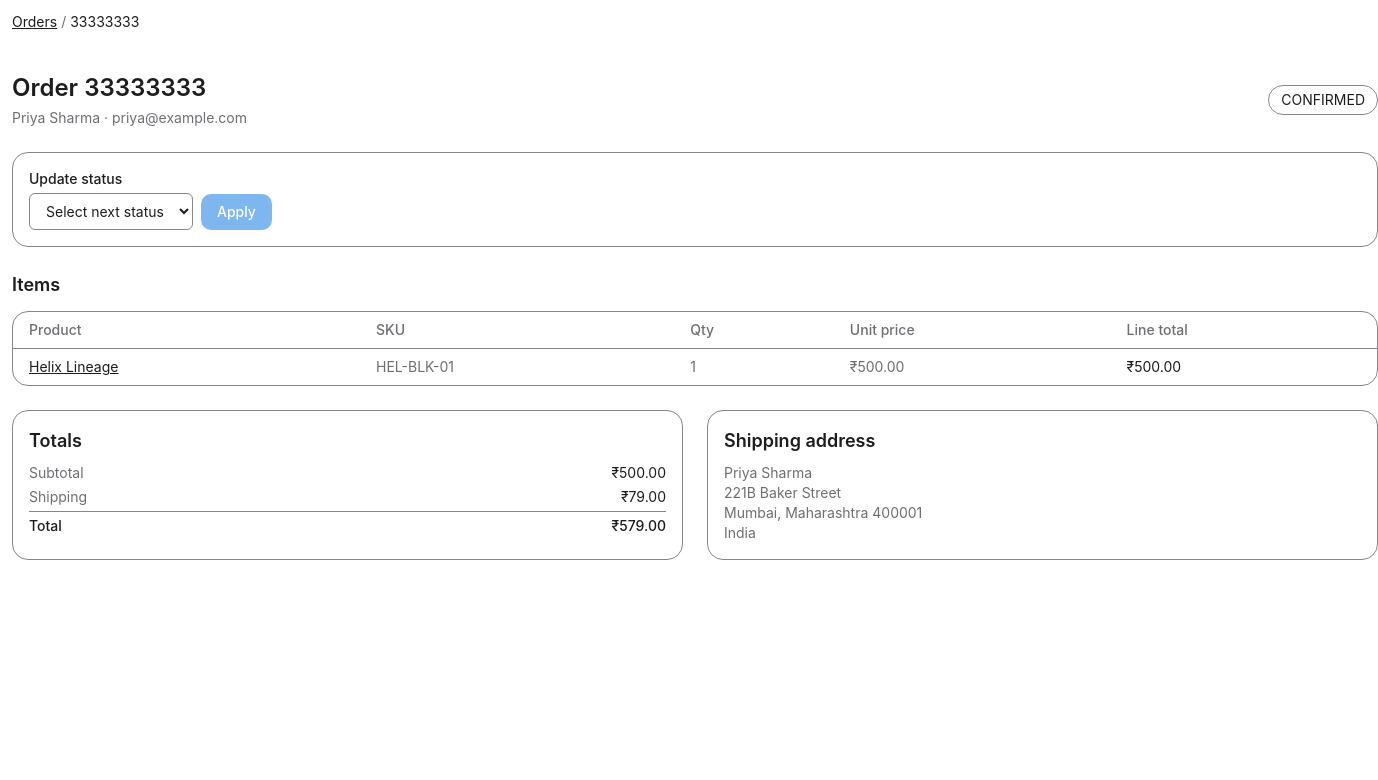
it: AdminOrderDetailPage › applies a status transition
Expected: the link "Helix Lineage" is shown, [29,358,118,375]
Select "PROCESSING" in the dropdown labelled "Update status" at (111, 212), box [29,193,193,230]
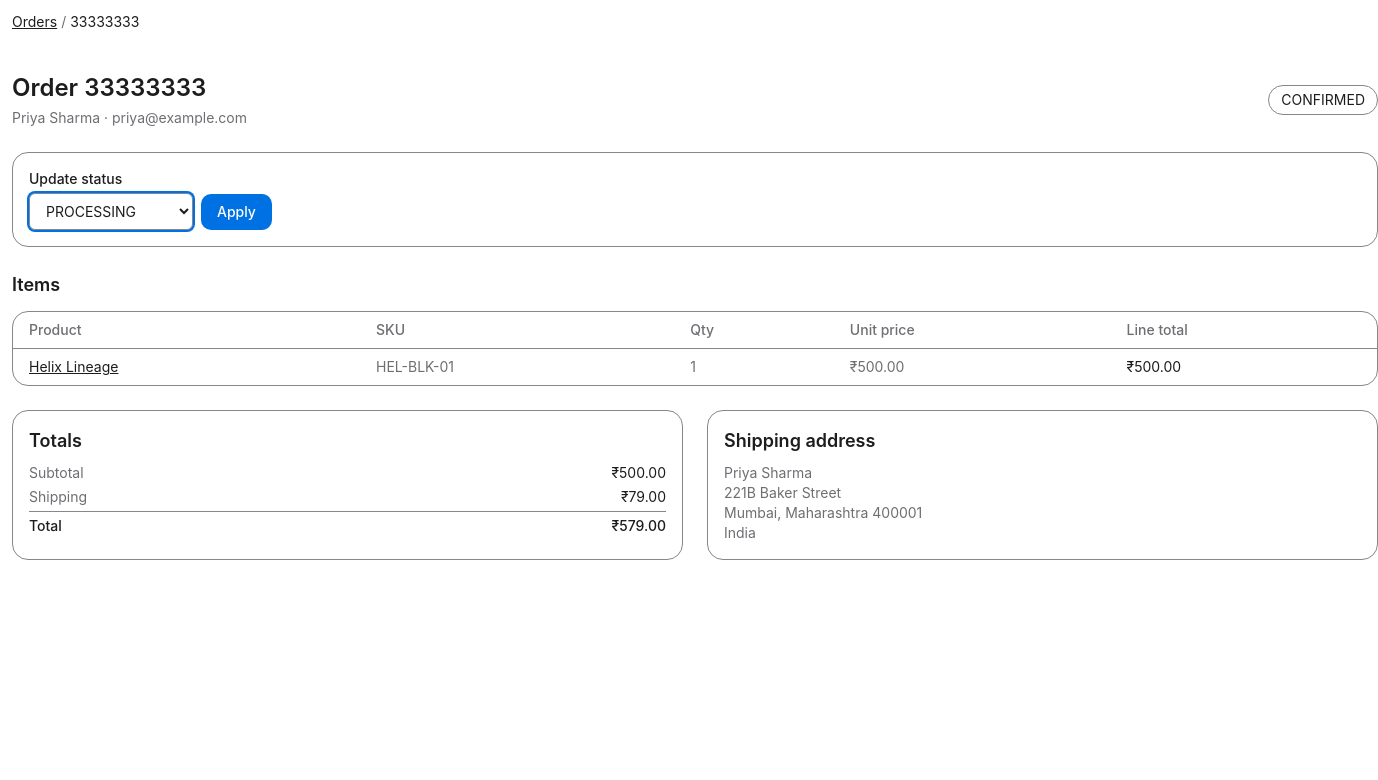
Click the button "Apply" at (236, 212), box [201,194,272,230]
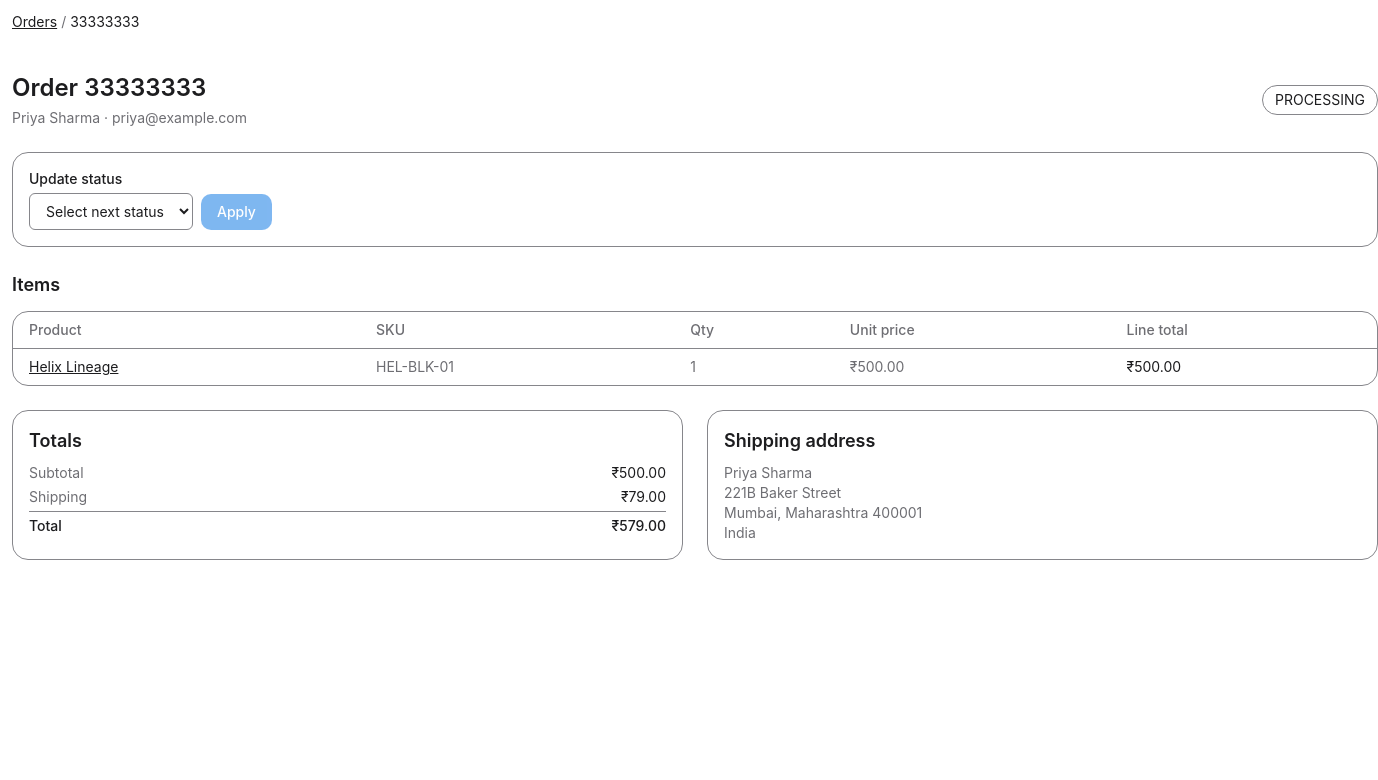
Now the text "PROCESSING" is shown, box [1262,85,1377,115]
